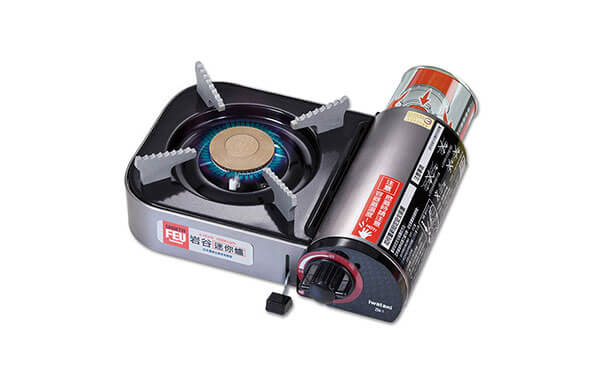gasoven: (121, 57, 486, 329)
